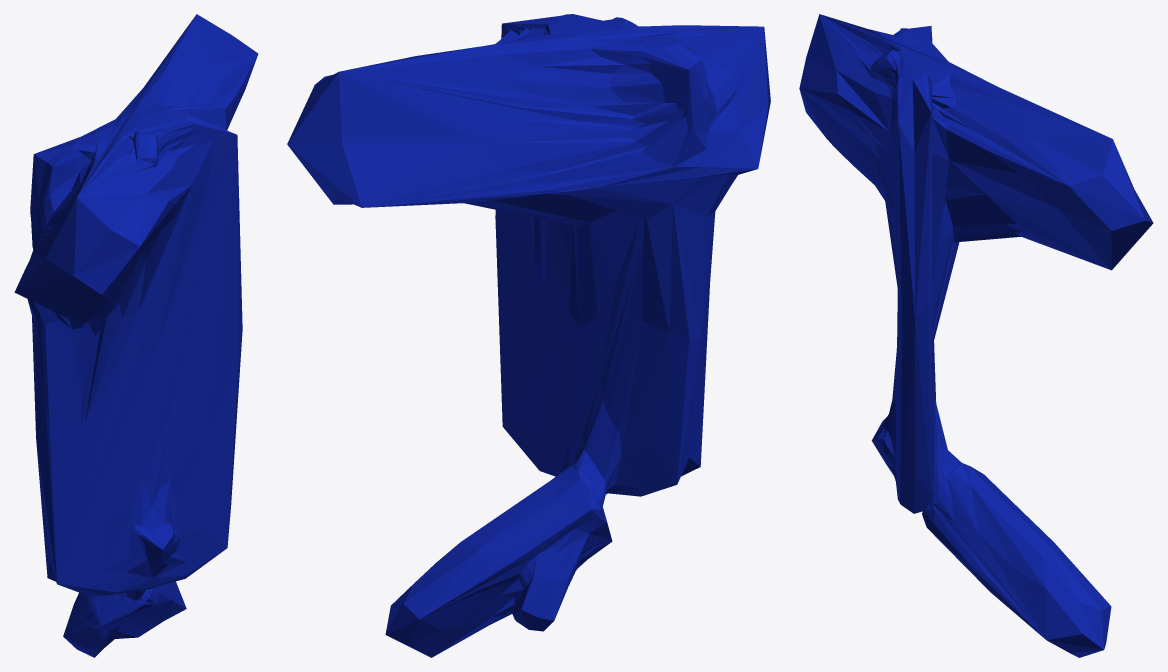
3 renders of one model, left to right at view 1: azimuth 30°, elevation 25°; view 2: azimuth 150°, elevation 25°; view 3: azimuth 270°, elevation 25°, orthographic. The views are drawn at different scales.
Visible parts, largest first — view 1: 473_Cube.1918; view 2: 473_Cube.1918; view 3: 473_Cube.1918.
Boxes of the visible parts, bbox=[...] form: 473_Cube.1918: bbox=[14, 14, 258, 657]; 473_Cube.1918: bbox=[287, 14, 770, 657]; 473_Cube.1918: bbox=[799, 14, 1153, 657].
Bounding box in the file's own units: 9.51 × 15.75 × 8.99.
